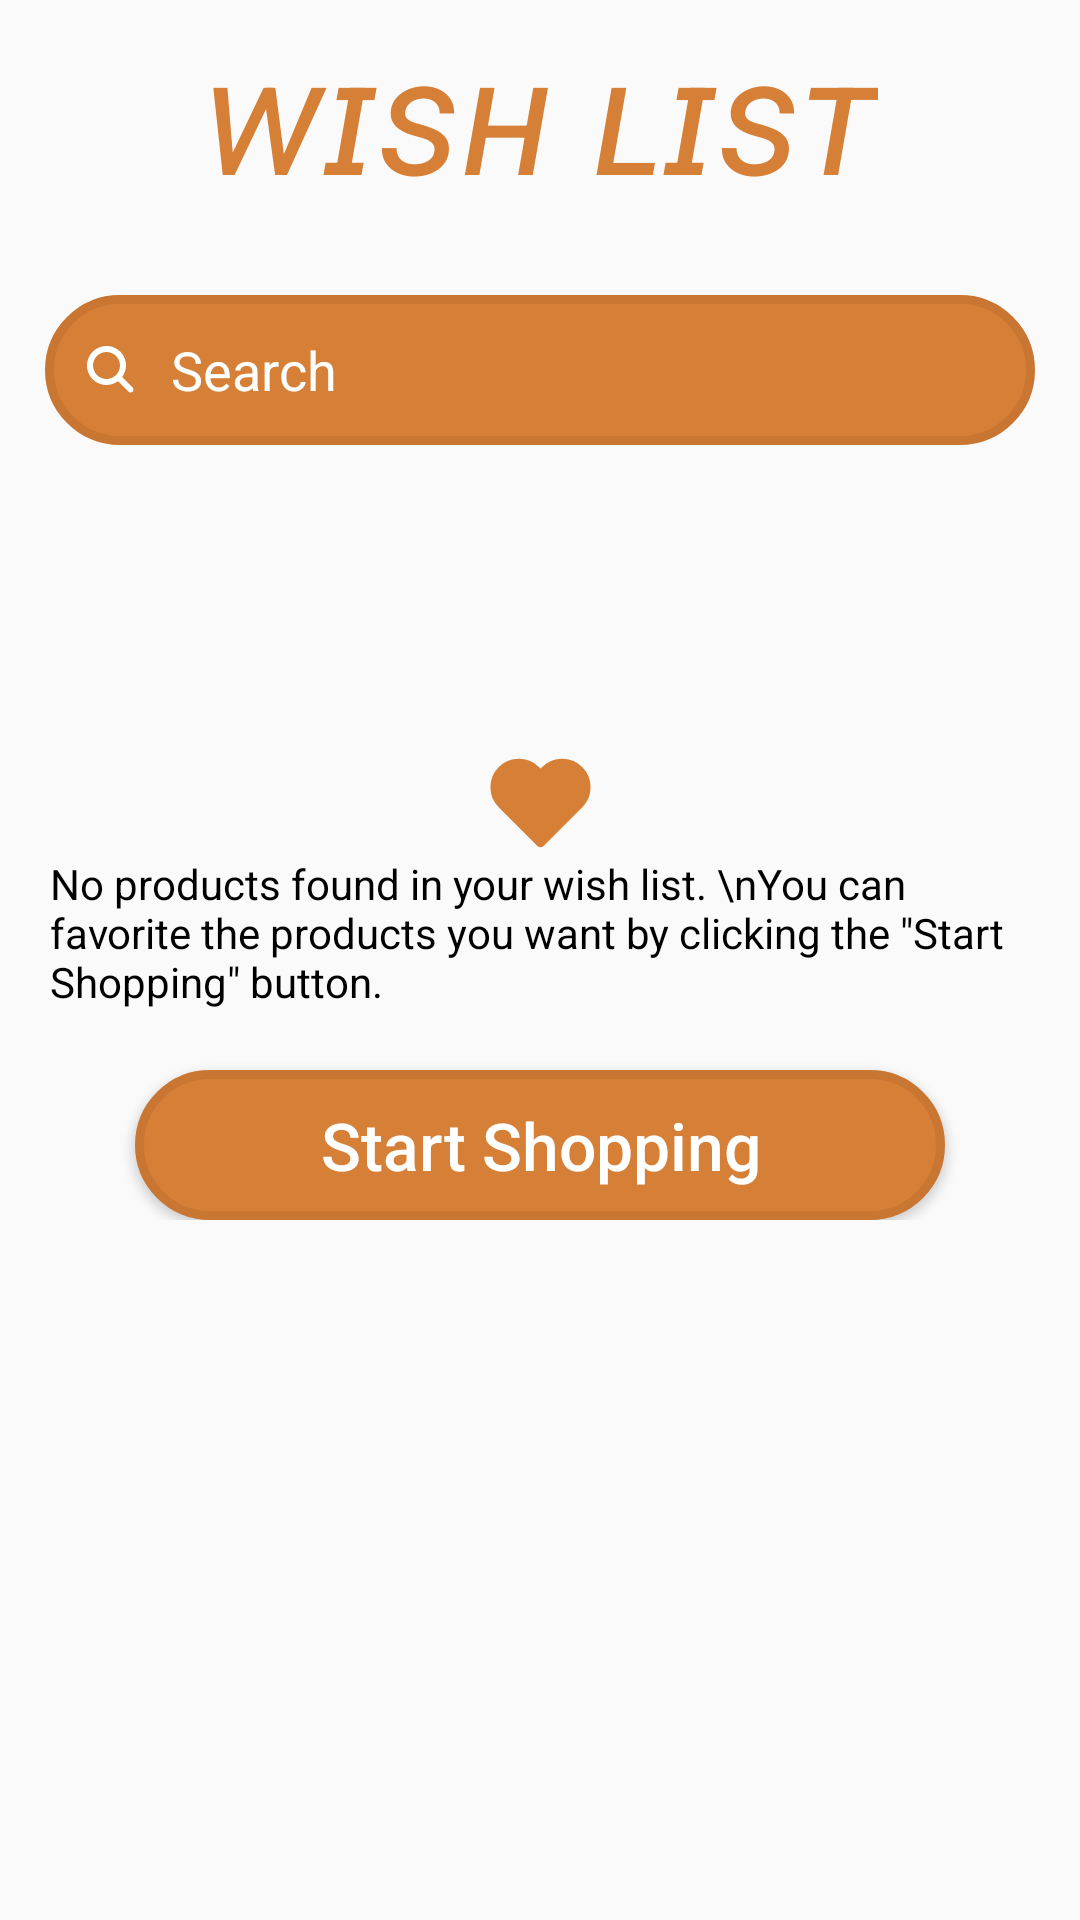

Named icons in this screenshot (1080 × 1920) and their centers, [x,y]:
heart: [540,803]
